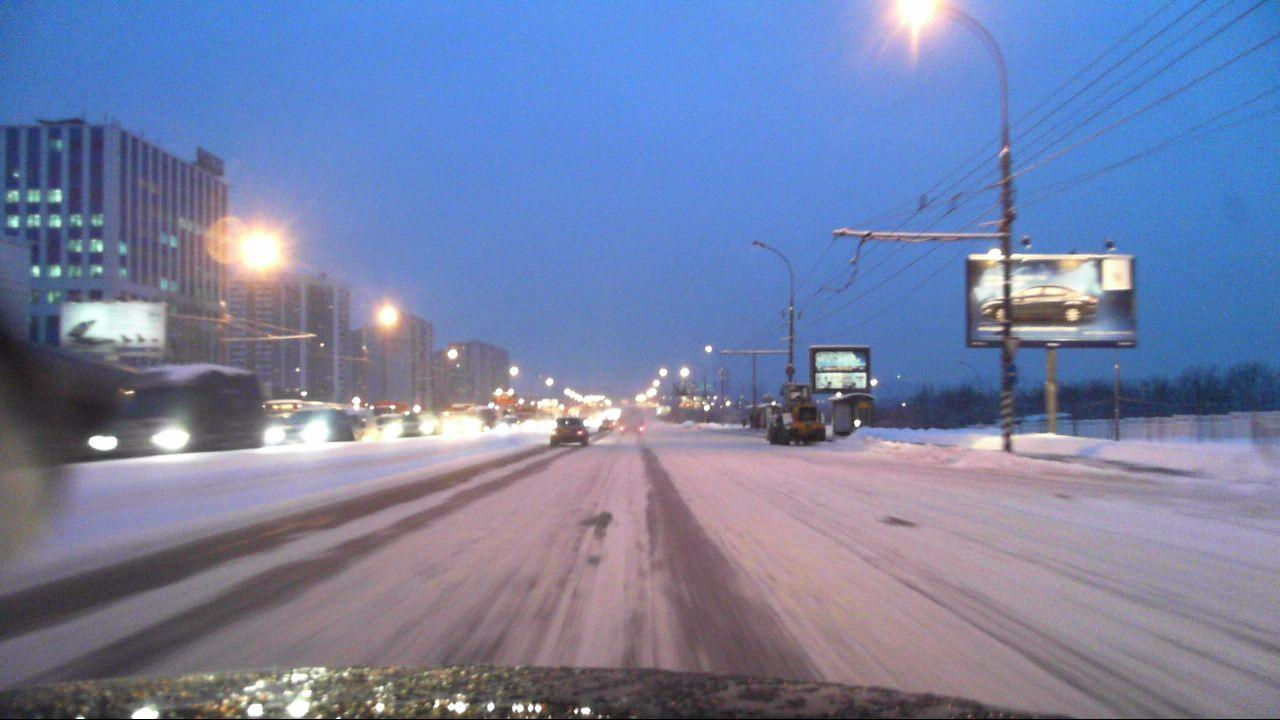2_4: (1000, 335, 1021, 357)
3_27: (785, 363, 797, 375)
4_2_2: (999, 364, 1023, 384)
